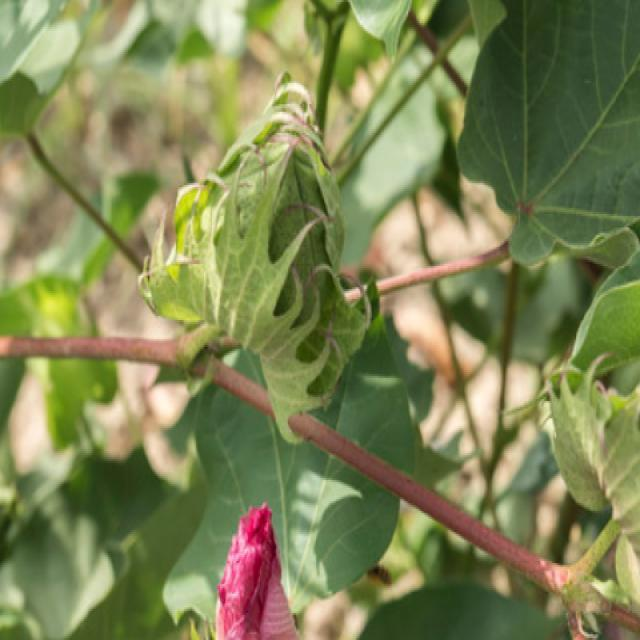Cotton Blossom: (195, 484, 306, 640)
Early Boll: (134, 102, 376, 400)
